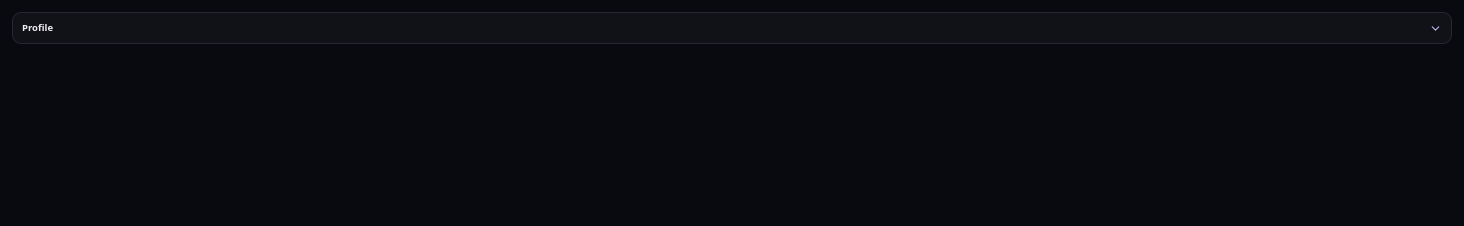
it: CustomSelect › closes with Escape and does not open while disabled
Later steps or results of the test are not shown.
Click the button with aria-label "Reasoning override" at (38, 27), box [12, 12, 1452, 44]
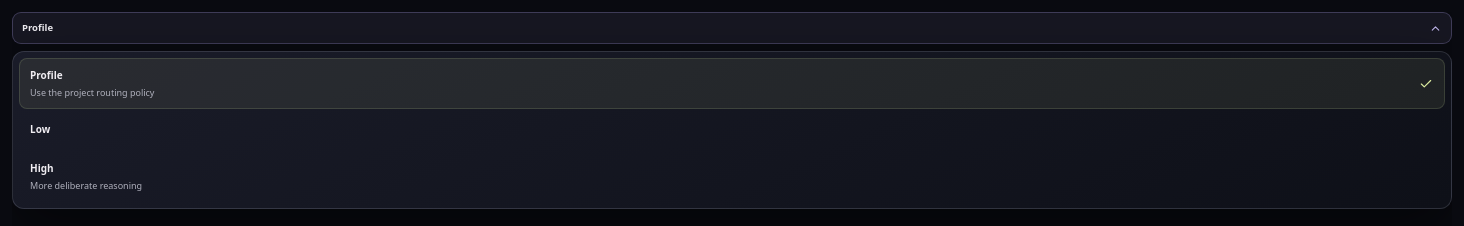
Press Escape
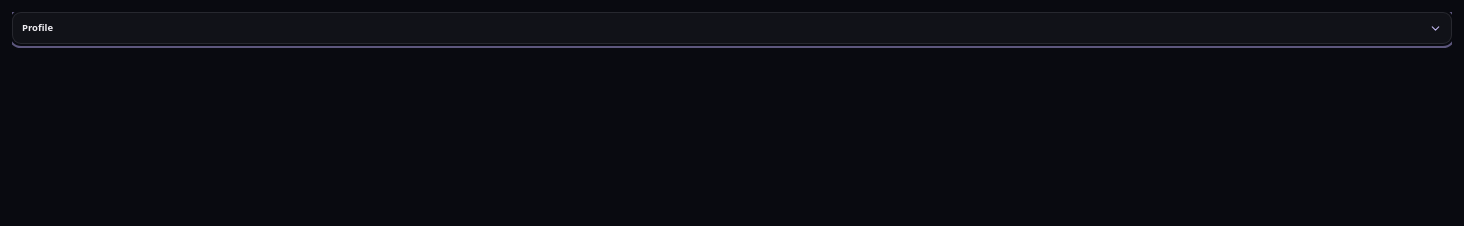
Check: the list is gone
